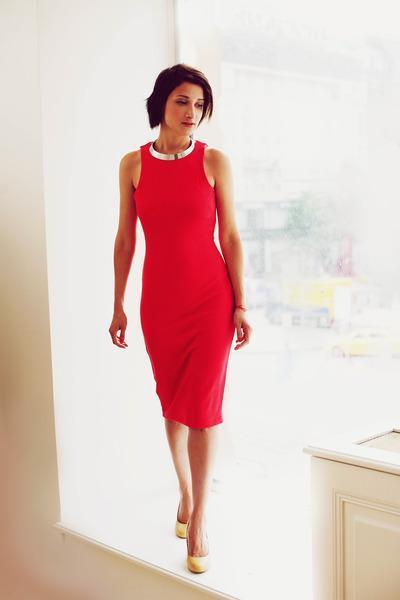dress: (128, 134, 243, 432)
